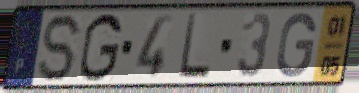3: (236, 10, 271, 81)
4: (134, 13, 171, 81)
G: (77, 11, 125, 84), (273, 10, 318, 80)
L: (176, 12, 213, 81)
S: (36, 12, 86, 85)
